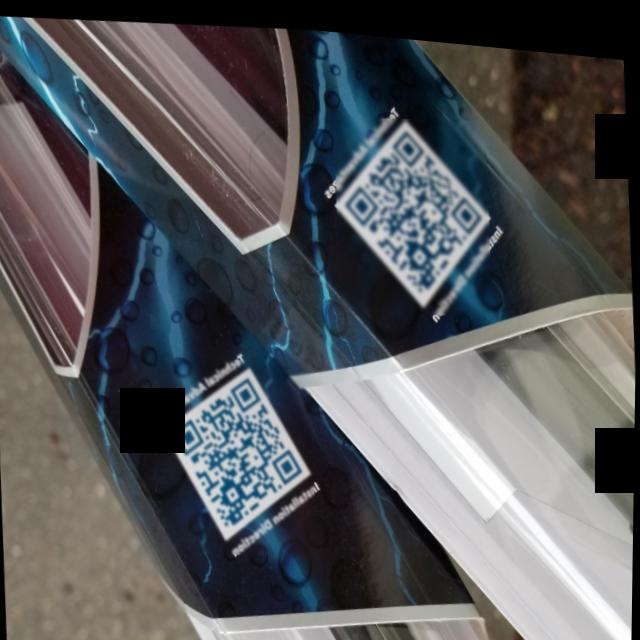QR_CODE: (331, 101, 496, 316), (158, 345, 321, 560)
